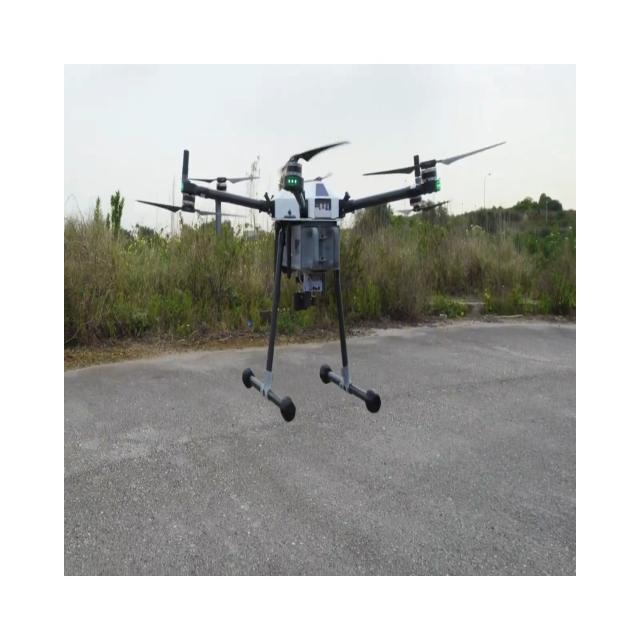drone: (135, 137, 506, 422)
